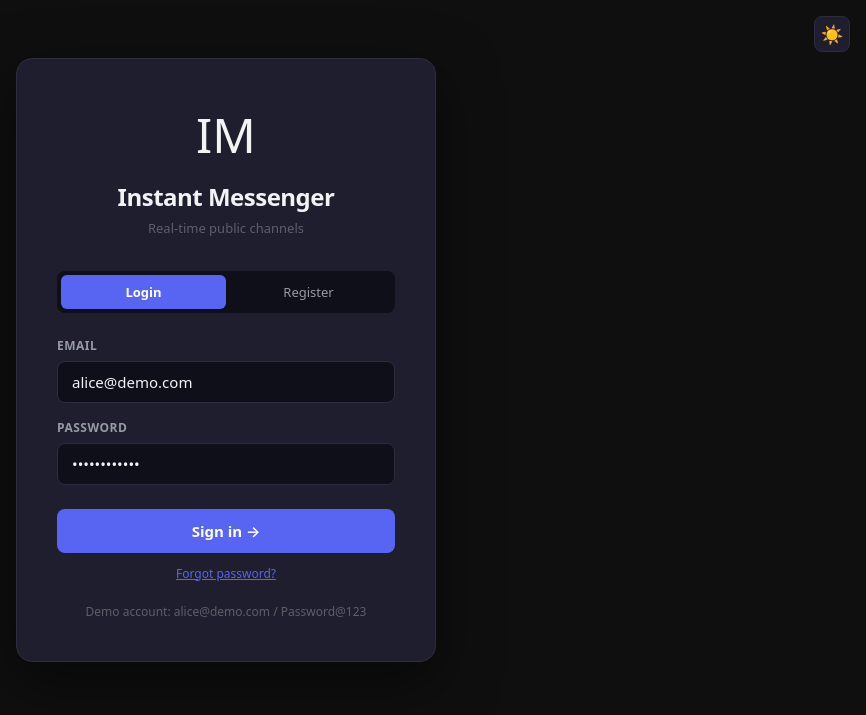
LoginPage › displays error message when registration fails
Click the button "Register" at x=308, y=292, box [226,275,391,309]
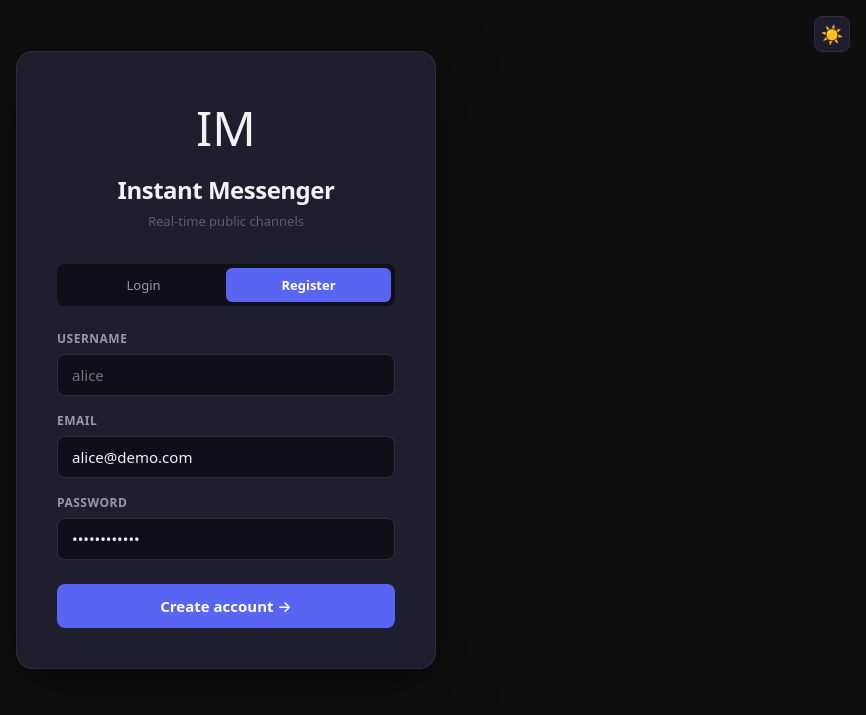
Type "Password1!" into the password field labelled "Password" at x=226, y=539, box [57,518,395,560]
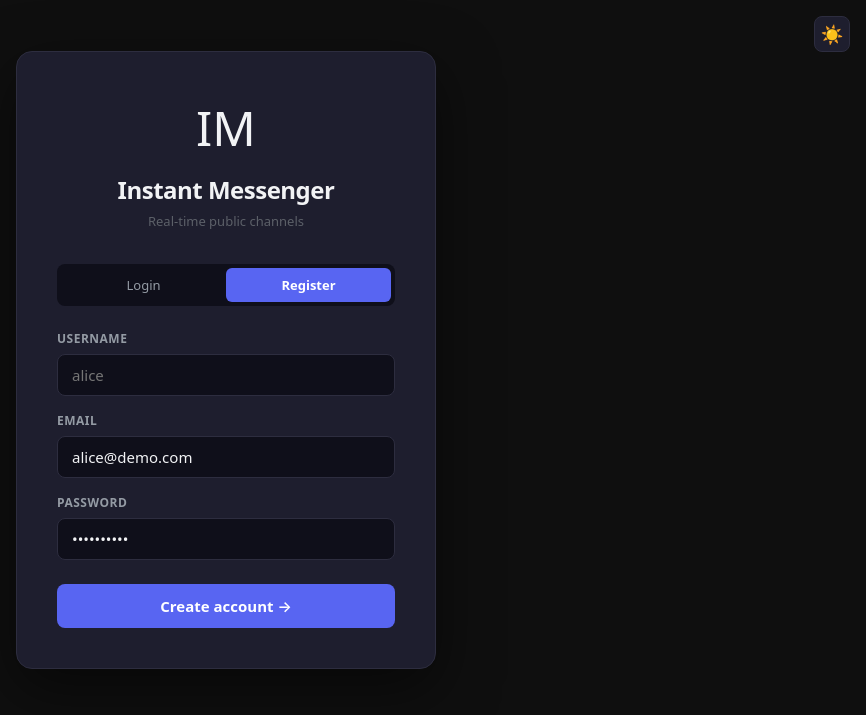
Submit the form "Username Email Password Create account →", box [57,330,395,628]
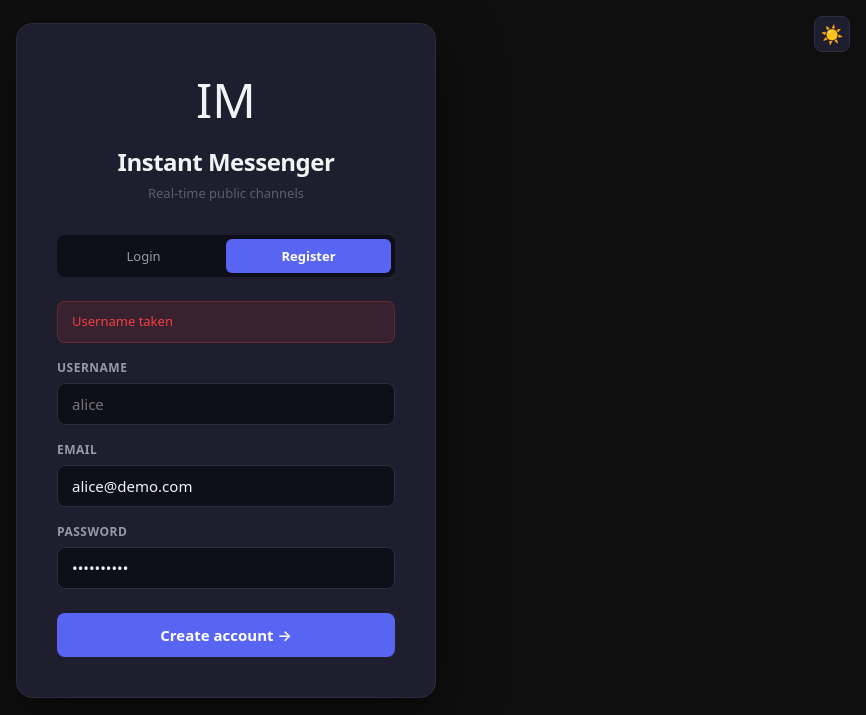
Result: the text "Username taken" is shown at [57,301,395,342]
